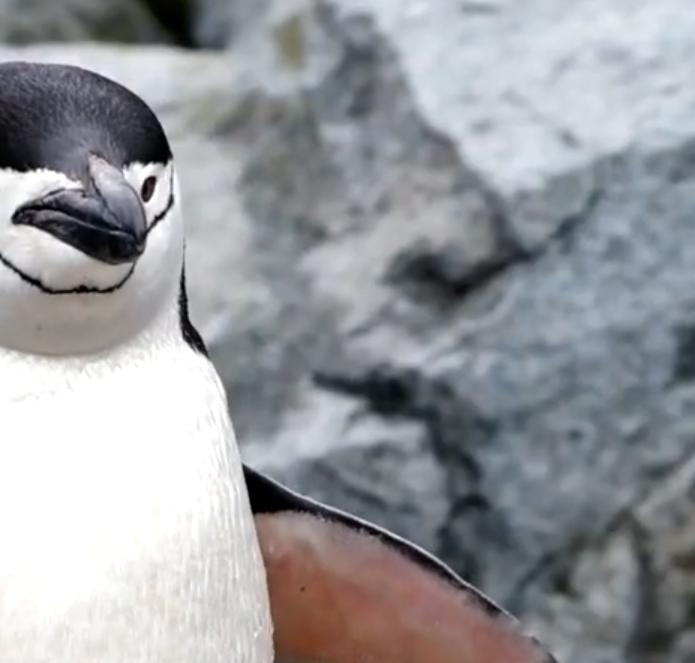Chinstrap Penguin: (0, 46, 597, 663)
